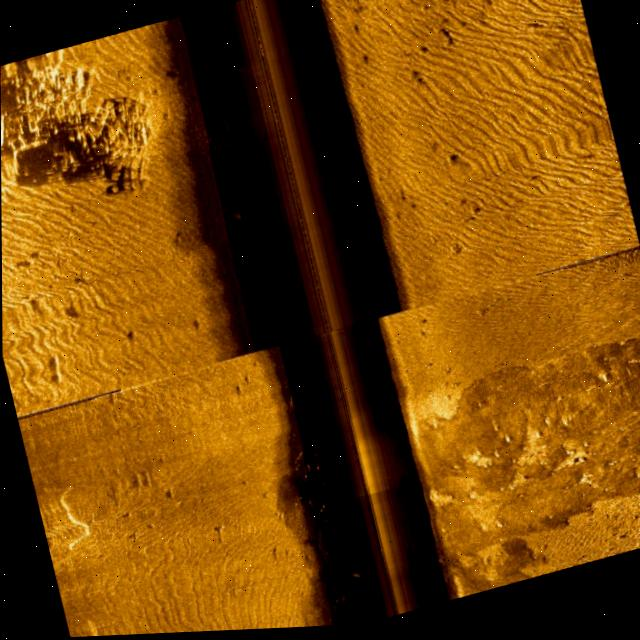artificial reef: (35, 46, 170, 182)
